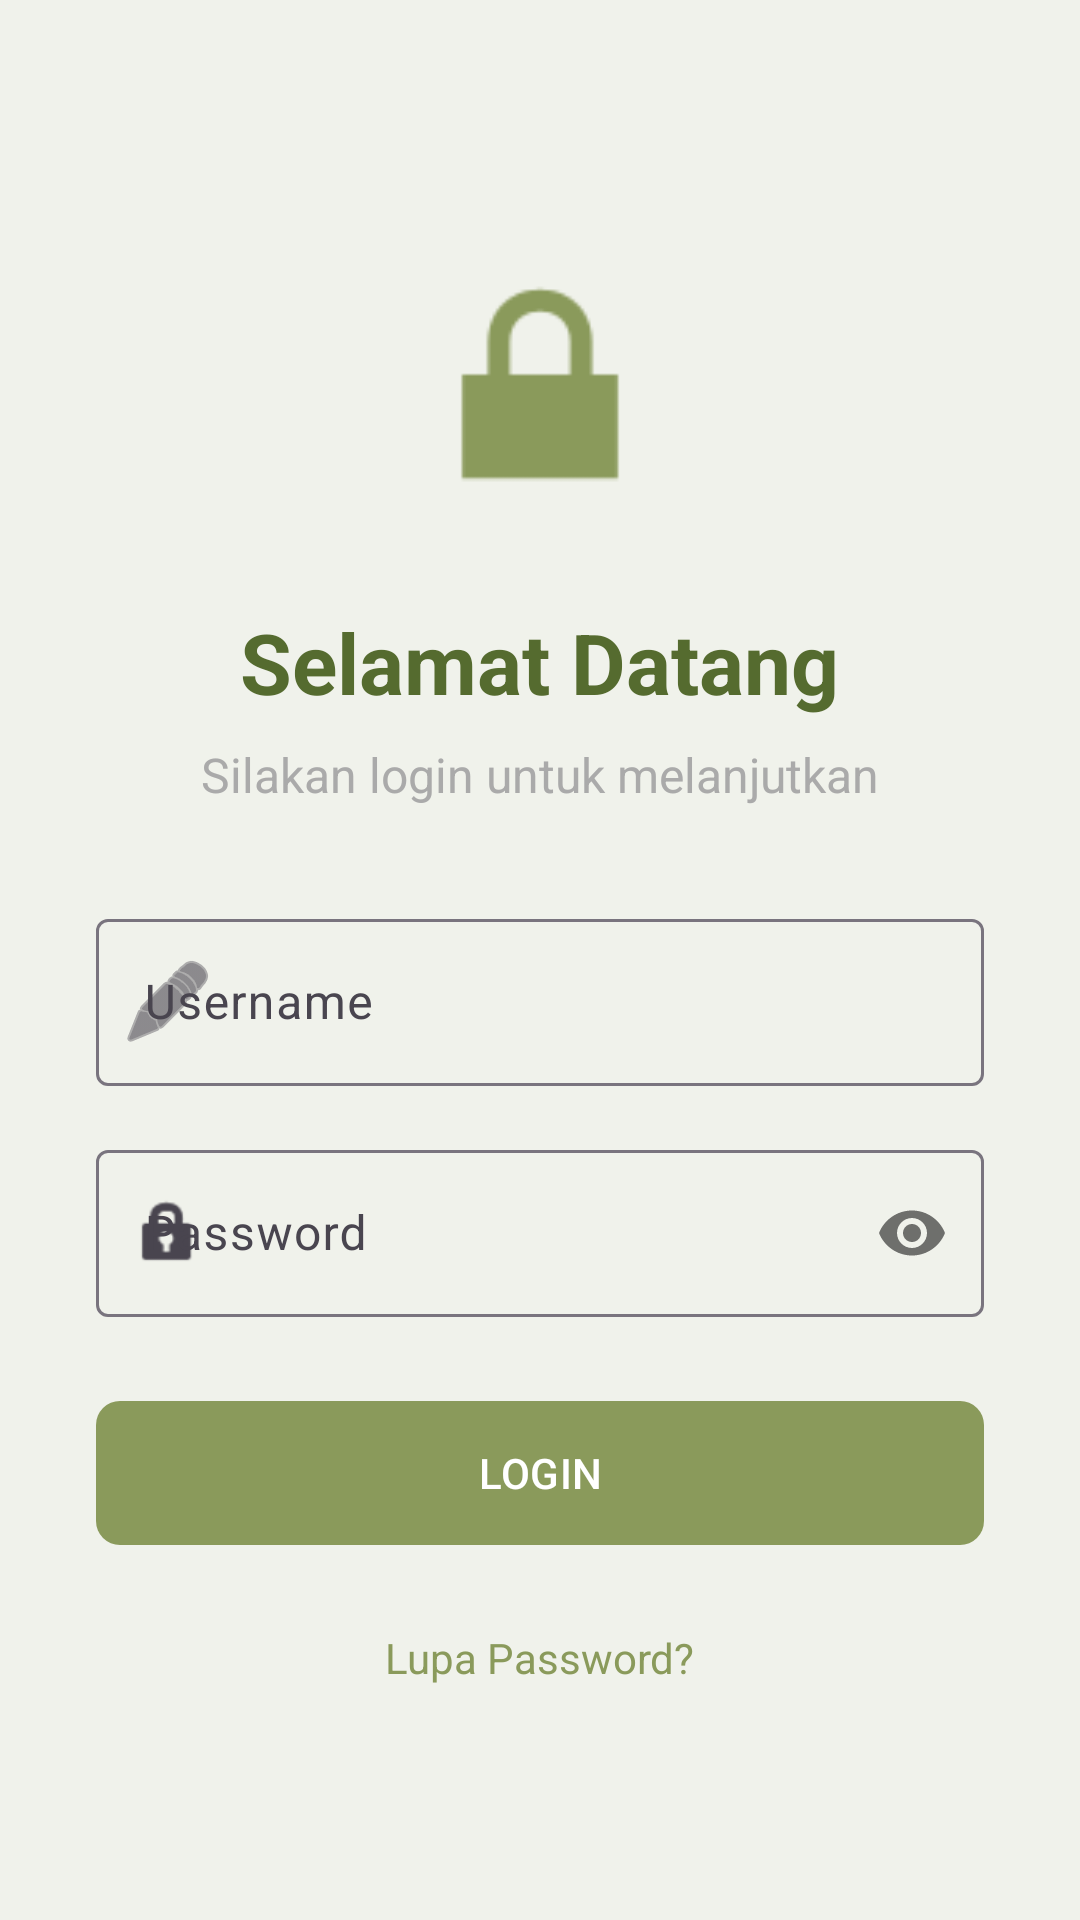

Icon click points for this 1080px x 1920px phone screenshot, format (x,y):
lock: (540,384)
